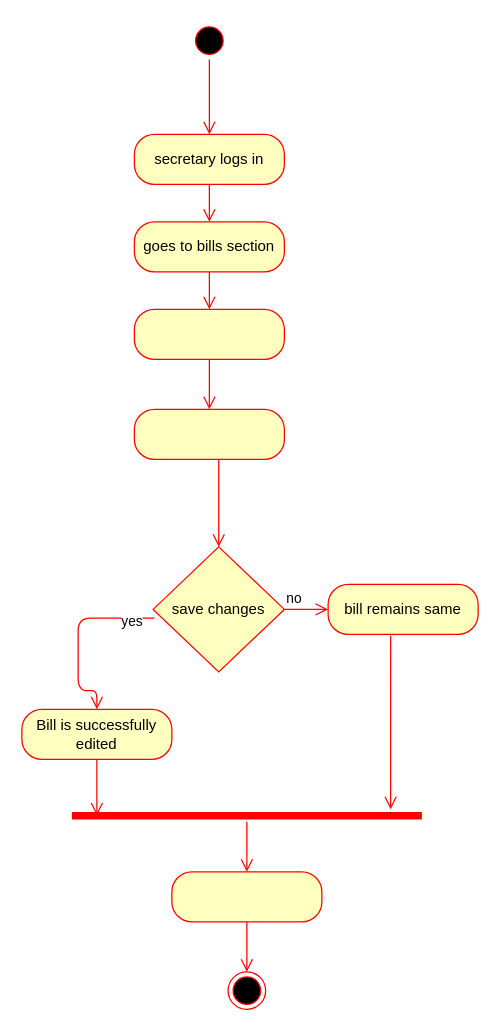
This 500x1031 diagram has some shape labels left out. Here are the shapes that lost their labels. From the top down, the centre of each, then its label:
the point at 208,333: selects to bill
the point at 208,433: edits bill
the point at 246,896: Back to bills section
